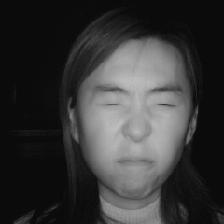sad: (62, 17, 210, 202)
